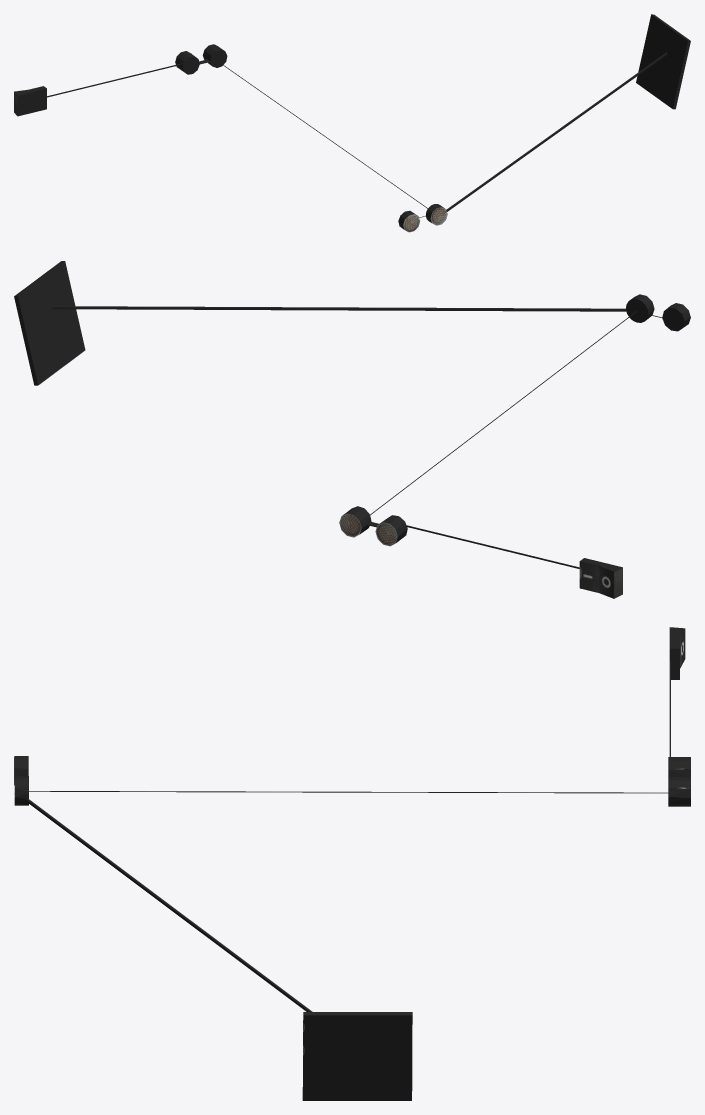
The model's file is accessories.dae.
The picture shows the model from 3 angles, top to bottom: view 1: azimuth 30°, elevation 25°; view 2: azimuth 150°, elevation 25°; view 3: azimuth 270°, elevation 25°; orthographic projection. The views are drawn at different scales.
Visible parts, largest first — view 1: accessoires; view 2: accessoires; view 3: accessoires.
Part boxes in pixels (x1,y1,x2,y2): accessoires: (14,14,690,232); accessoires: (14,261,690,598); accessoires: (14,627,690,1100).
Size of the model in its own units: 0.3564 by 0.253 by 0.0404.
1 material, 1 textured.
